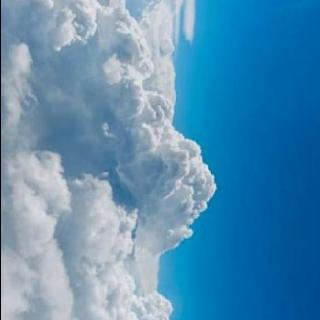Cumulus: (0, 0, 219, 320)
